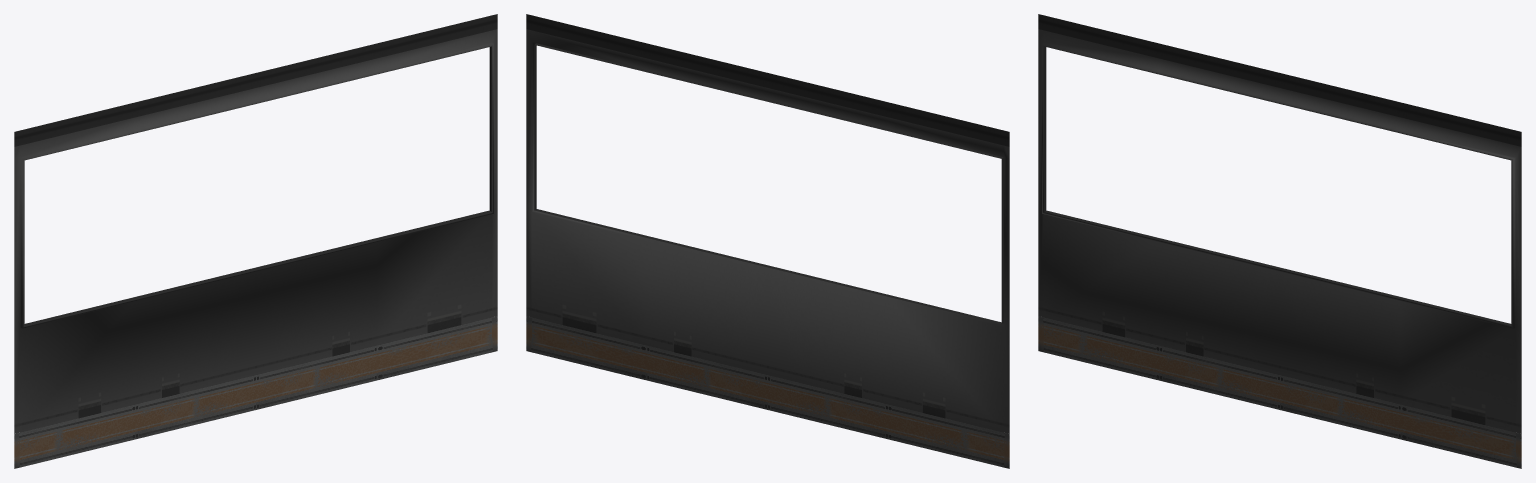
The model's file is WallVariation3.fbx.
The picture shows the model from 3 angles, left to right: view 1: azimuth 30°, elevation 25°; view 2: azimuth 150°, elevation 25°; view 3: azimuth 330°, elevation 25°; orthographic projection.
Visible parts, largest first — view 1: WallVariation5, WallVariation6; view 2: WallVariation6, WallVariation5; view 3: WallVariation6, WallVariation5.
Boxes of the visible parts, left/top/right/bottom form: WallVariation5: left=14, top=73, right=258, bottom=468; WallVariation6: left=256, top=14, right=497, bottom=409; WallVariation6: left=526, top=14, right=769, bottom=409; WallVariation5: left=768, top=73, right=1009, bottom=468; WallVariation6: left=1277, top=73, right=1521, bottom=468; WallVariation5: left=1038, top=14, right=1279, bottom=409.
Size of the model in its own units: 600 by 400 by 4.73.
